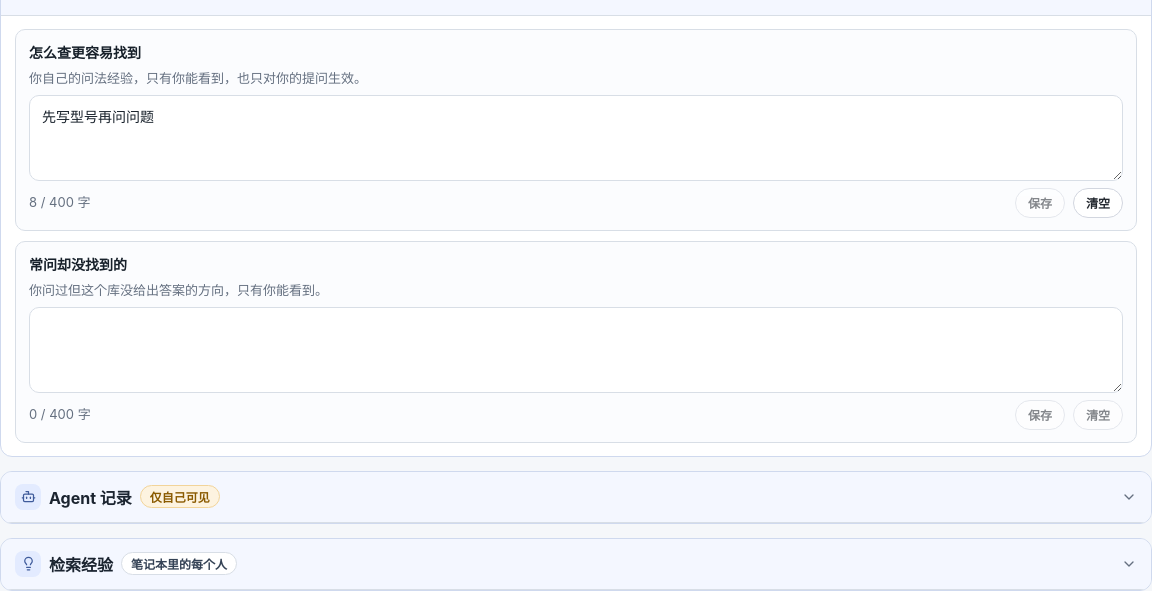
Test: Agent 记录：按 Agent 分组渲染，每条带 Agent 名与相对时间
(page scrolled)
Click the text "Agent 记录": [90, 496] box [49,484,132,508]
(page scrolled)
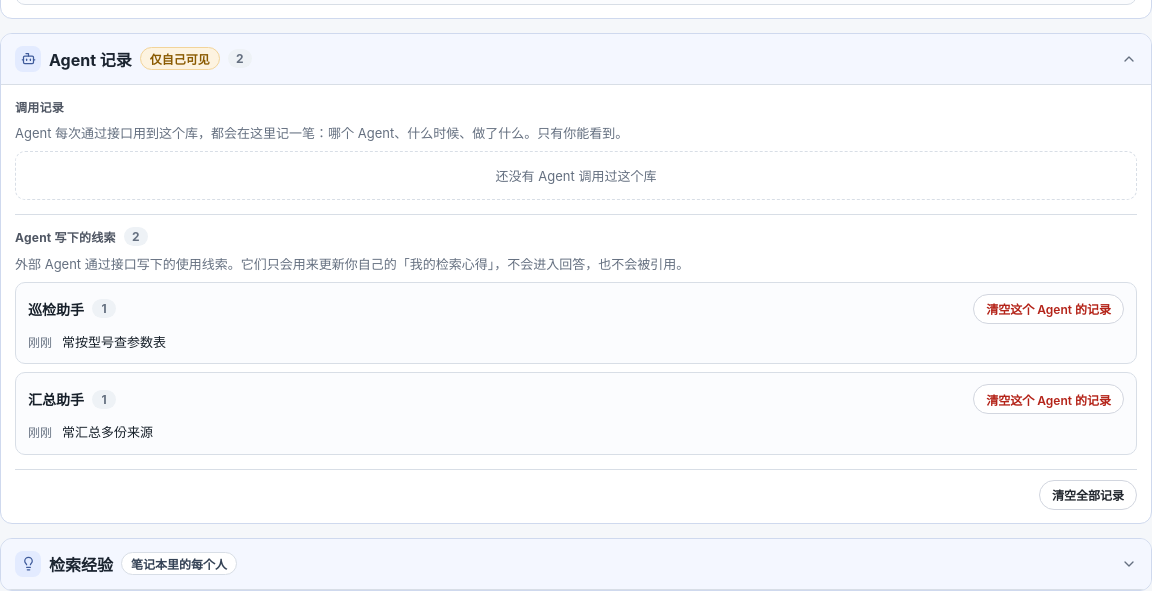
Result: the text "巡检助手" is shown at [28,299,84,319]
Result: the text "汇总助手" is shown at [28,389,84,409]
Result: the text "常按型号查参数表" is shown at [62,332,166,352]
